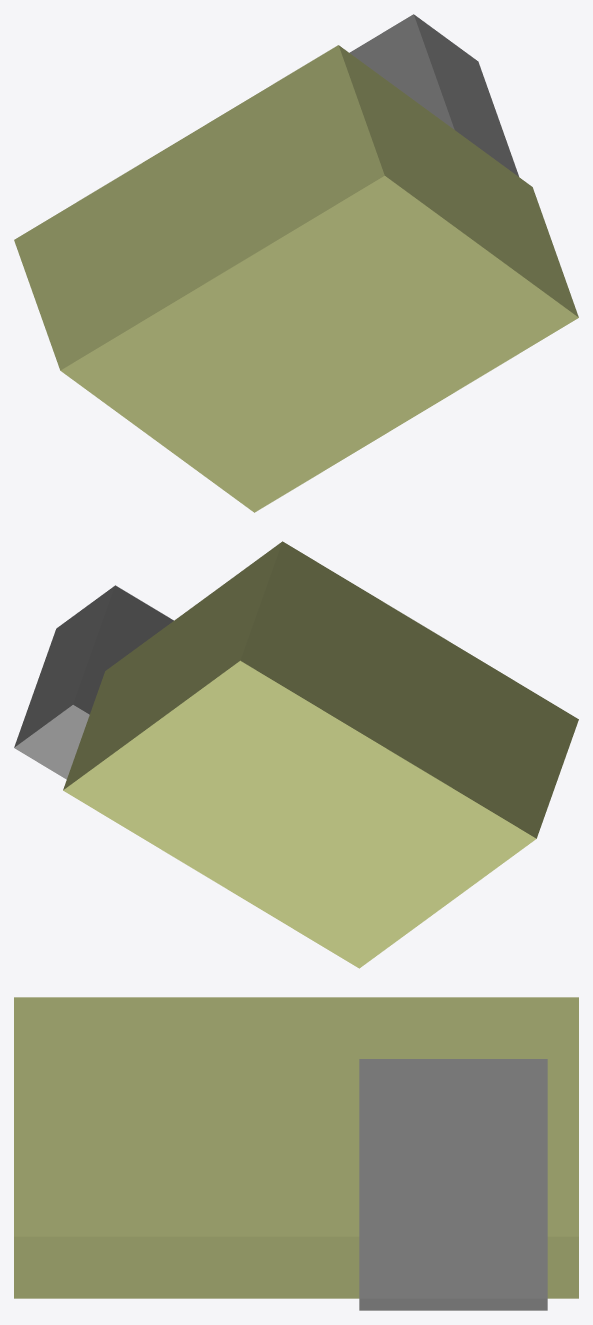
3 renders of one model, top to bottom at view 1: azimuth 30°, elevation 25°; view 2: azimuth 150°, elevation 25°; view 3: azimuth 270°, elevation 25°, orthographic. The views are drawn at different scales.
Parts seen in each view (by area): view 1: 0_1_2_0_0_2_2_0_2_2_1; view 2: 0_1_2_0_0_2_2_0_2_2_1; view 3: 0_1_2_0_0_2_2_0_2_2_1.
Part boxes in pixels (left/top/right/bottom): 0_1_2_0_0_2_2_0_2_2_1: left=14, top=14, right=578, bottom=512; 0_1_2_0_0_2_2_0_2_2_1: left=14, top=541, right=578, bottom=968; 0_1_2_0_0_2_2_0_2_2_1: left=14, top=997, right=578, bottom=1310.
Size of the model in its own units: 11.65 by 7.18 by 9.
